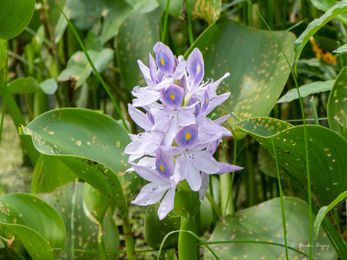water_hyacinth: (29, 22, 345, 259)
